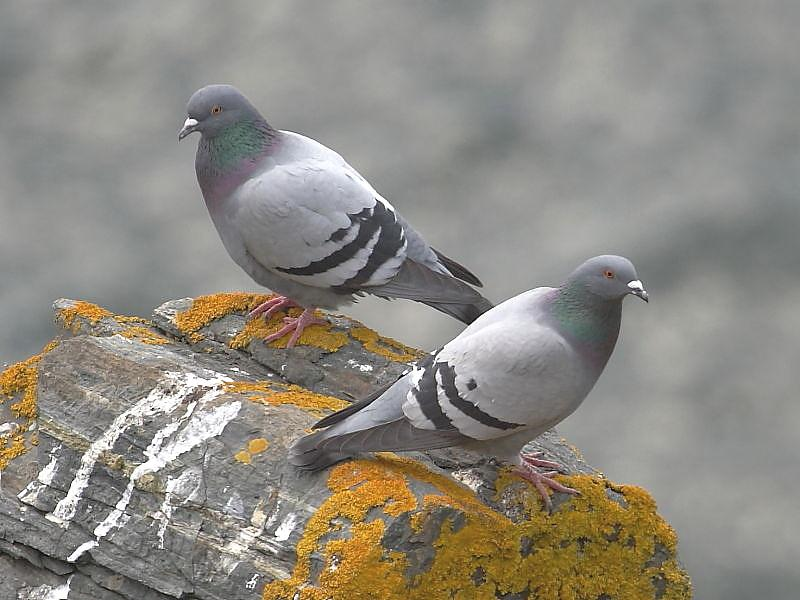Flying Rat: (300, 252, 653, 490), (169, 89, 480, 331)
